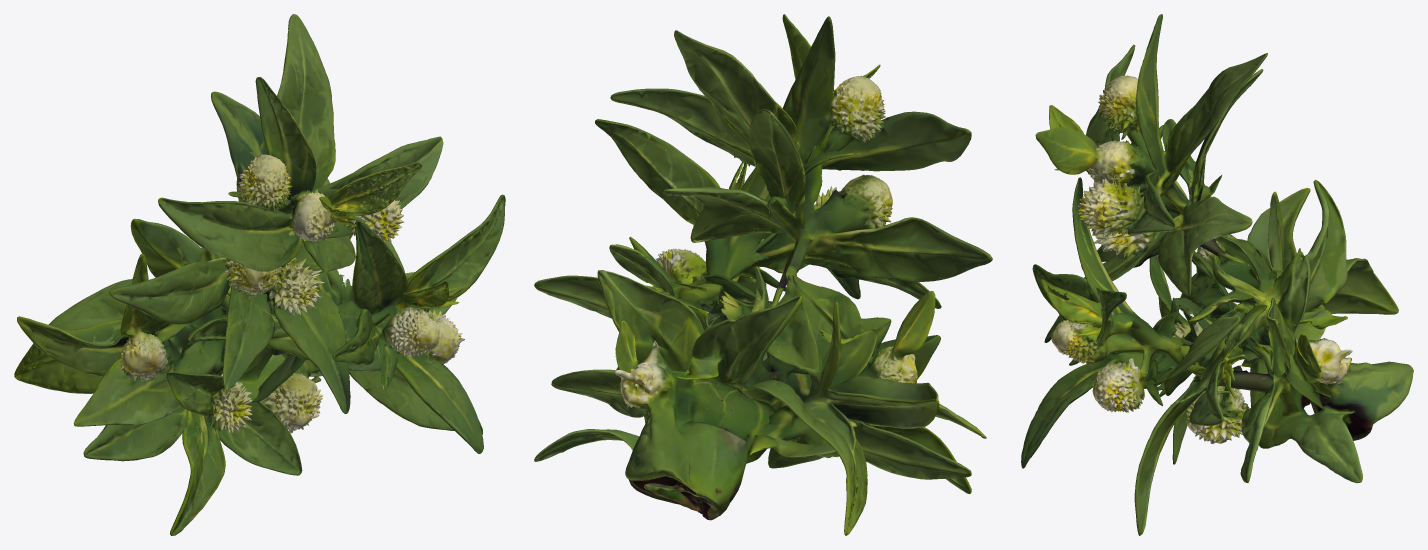
The model's file is bhringraj3d.glb.
The picture shows the model from 3 angles, left to right: view 1: azimuth 30°, elevation 25°; view 2: azimuth 150°, elevation 25°; view 3: azimuth 270°, elevation 25°; orthographic projection. The views are drawn at different scales.
Visible parts, largest first — view 1: tmp5yqocidmobj; view 2: tmp5yqocidmobj; view 3: tmp5yqocidmobj.
Part boxes in pixels (left/top/right/bottom): tmp5yqocidmobj: left=14, top=14, right=505, bottom=535; tmp5yqocidmobj: left=534, top=14, right=992, bottom=535; tmp5yqocidmobj: left=1021, top=14, right=1413, bottom=535.
Bounding box in the file's own units: 1 × 0.9925 × 0.8101.
1 material, 1 textured.
